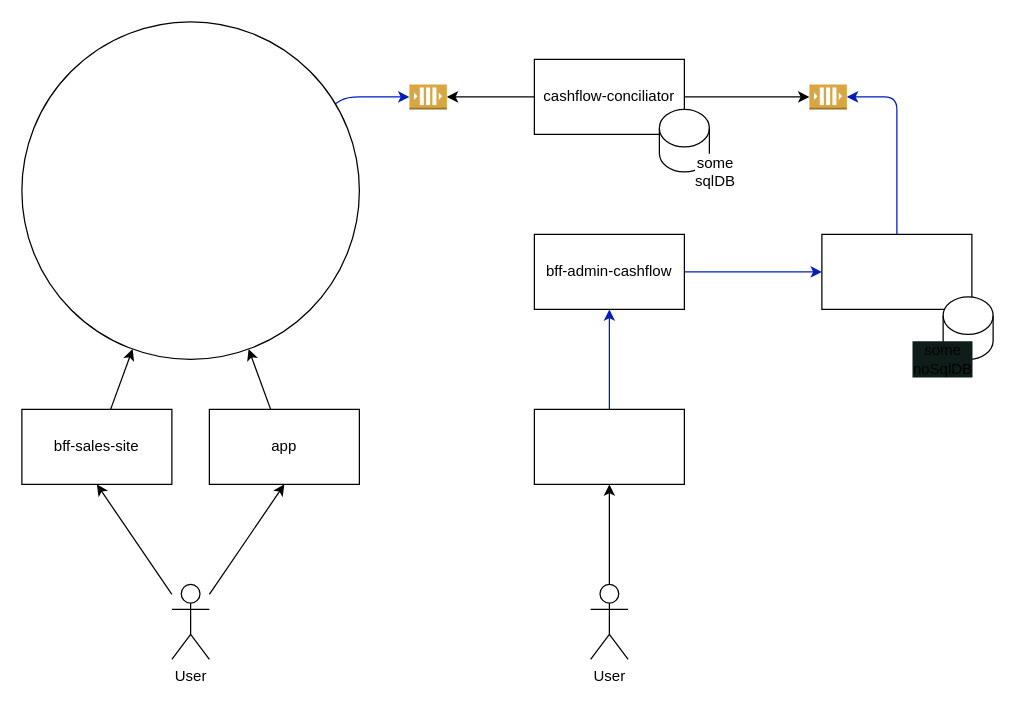
The diagram is 1015 pixels wide and 708 high, and some of its shapes have lost their labels. The centre of each missing label's shape, as x and y in pixels:
cashflow-query: point (896, 271)
portal-admin: point (608, 446)
Sales structure: point (190, 190)
